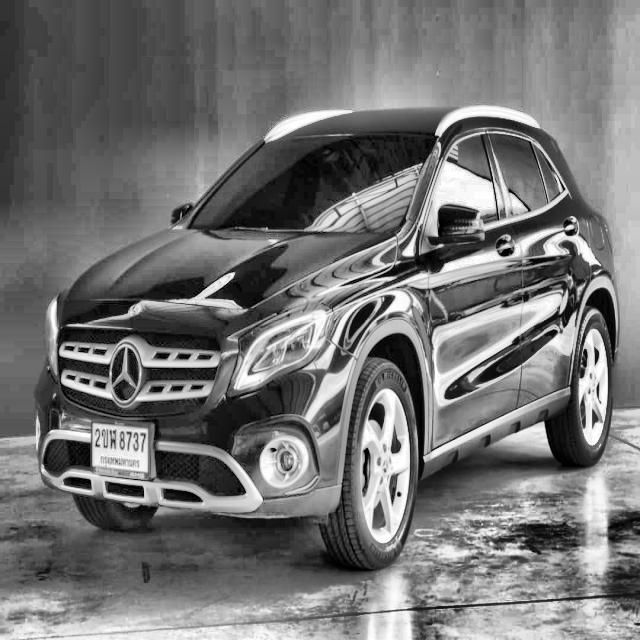license-plate: (89, 419, 156, 484)
